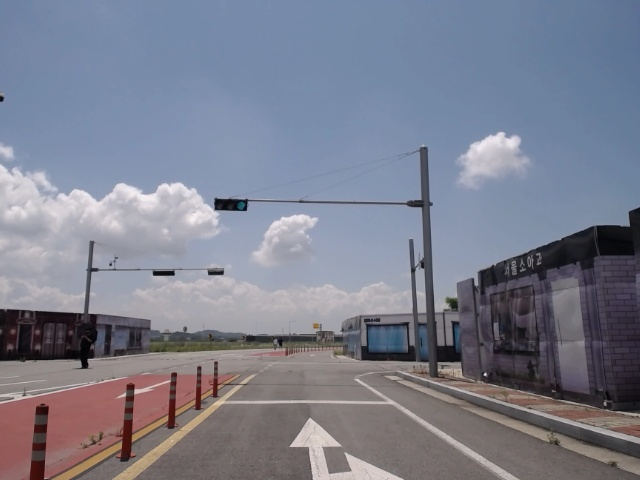green_3: (215, 199, 247, 210)
